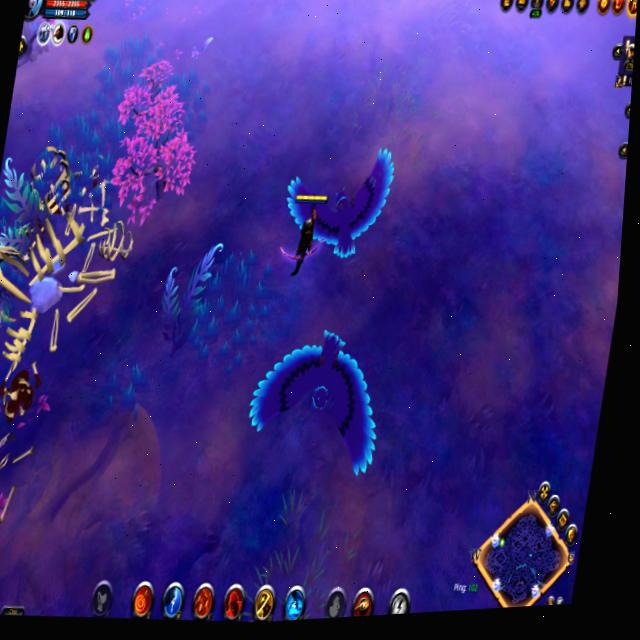red: (265, 170, 338, 284)
